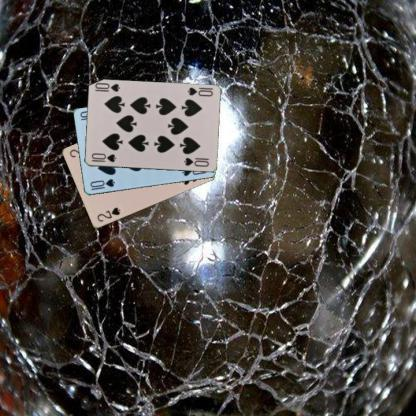10s: (89, 150, 118, 164), (87, 176, 116, 189), (185, 85, 214, 98)
2s: (95, 205, 122, 223)
